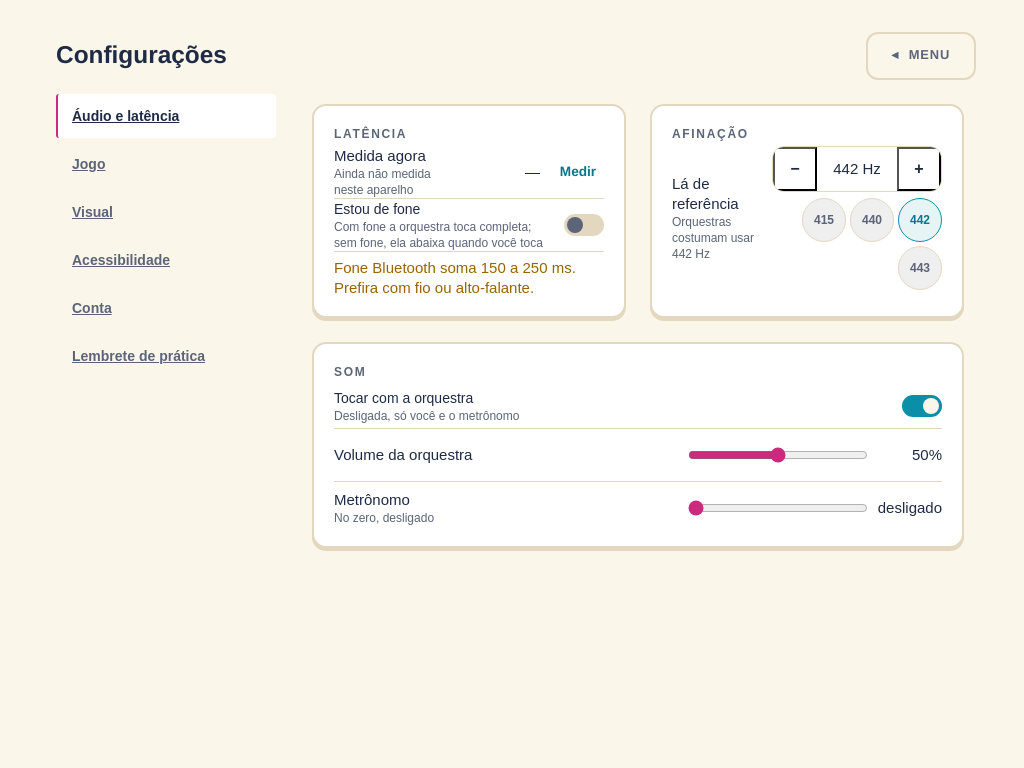
Settings › Lembrete abre no painel mantendo a navegação e a prévia
Click the link "Lembrete de prática": (139, 356) left=72, top=348, right=205, bottom=364
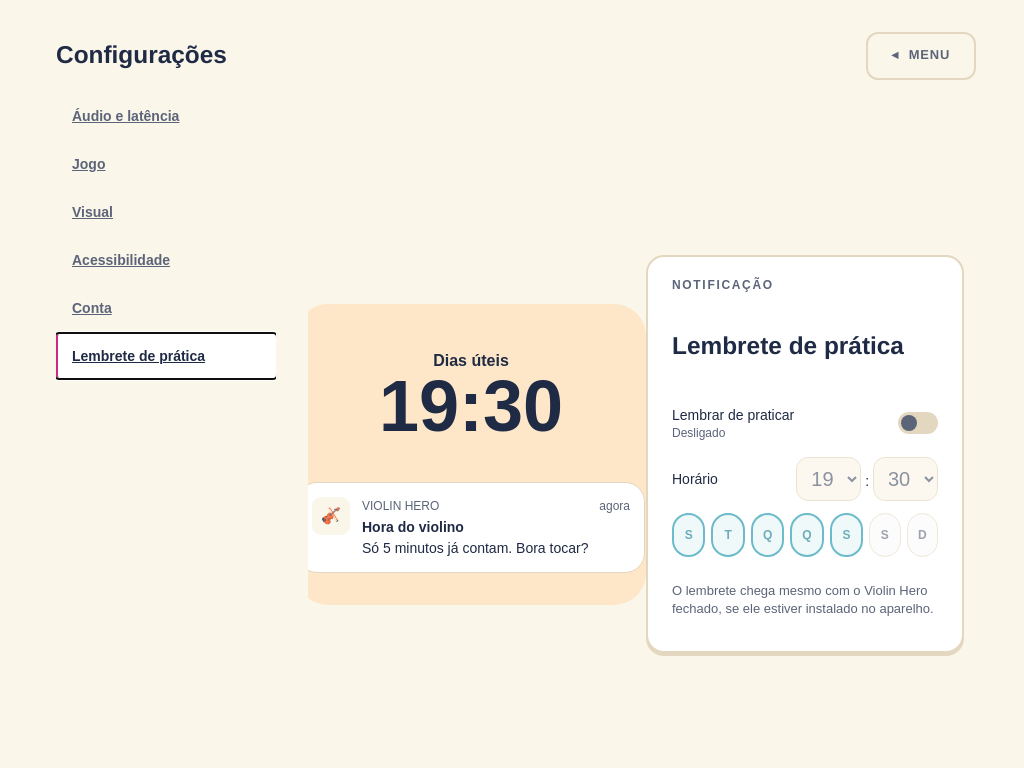
expect the heading "Lembrete de prática" is shown: met, box left=672, top=331, right=938, bottom=363
expect the element named "Notificação do Violin Hero" is shown: met, box left=308, top=482, right=645, bottom=572
